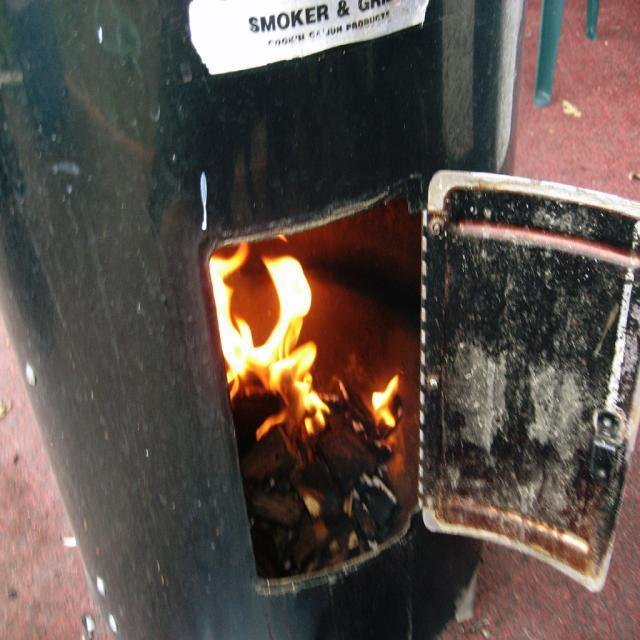Fire: (202, 255, 346, 432)
